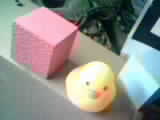duck: (66, 56, 116, 111)
